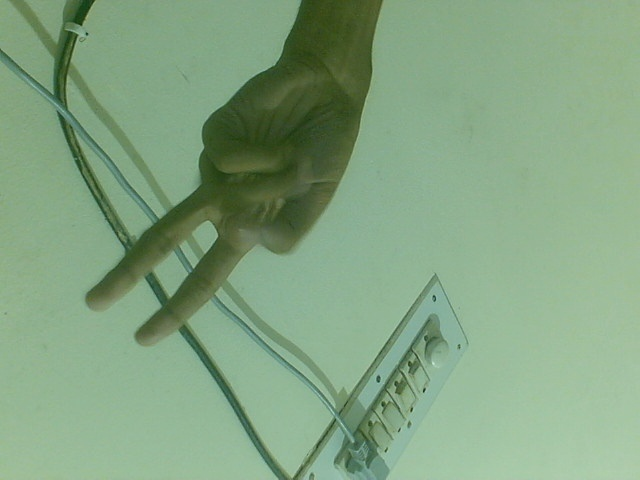hand: (80, 46, 372, 359)
